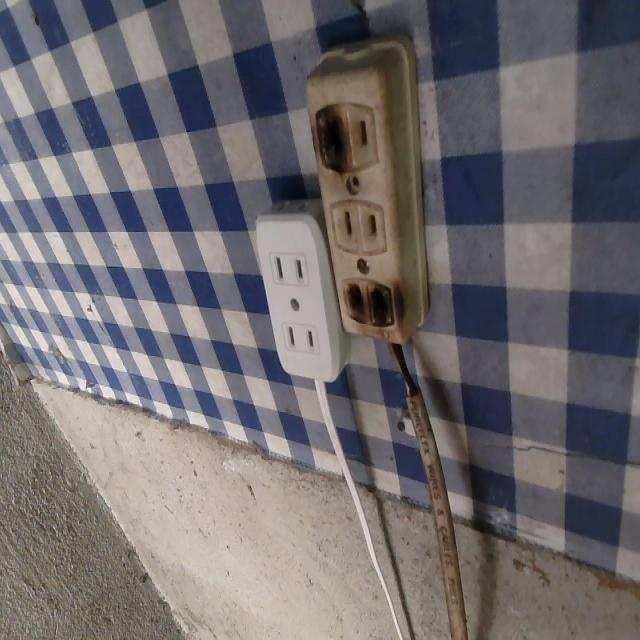-: (337, 272, 406, 341), (306, 100, 358, 183)
